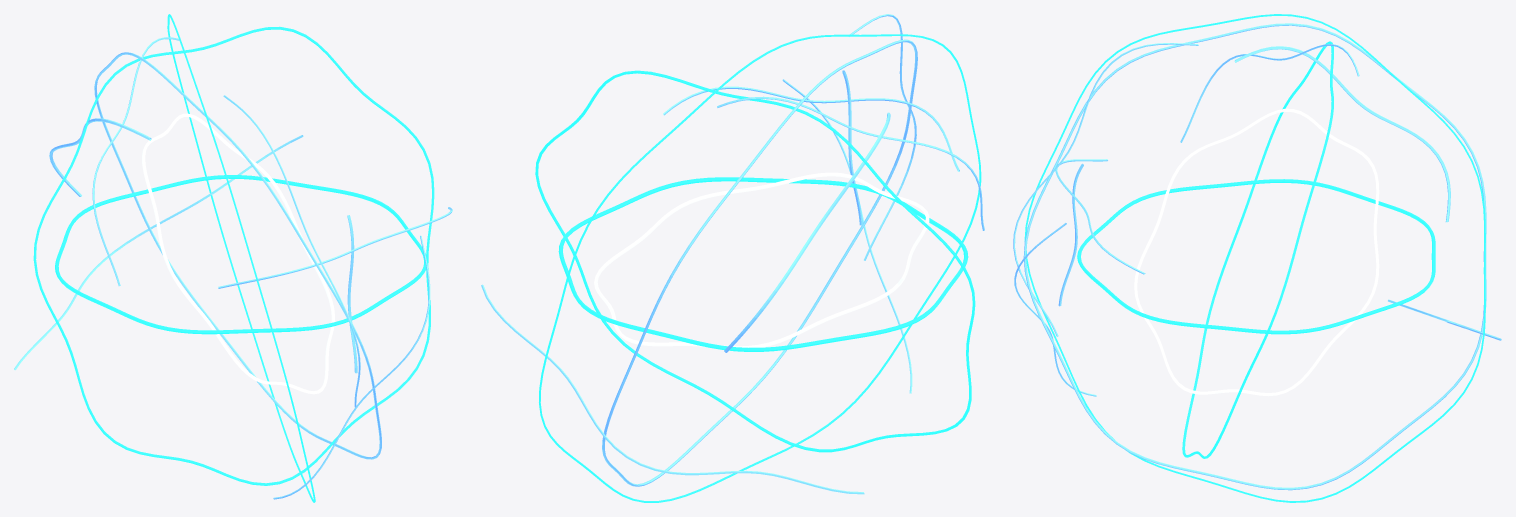
File: warp_bubble_ripple.glb
3 views of the same model, side by side, from view 1: azimuth 30°, elevation 25°; view 2: azimuth 150°, elevation 25°; view 3: azimuth 270°, elevation 25° (orthographic). The views are drawn at different scales.
Visible parts, largest first — view 1: warp_bubble_ripple; view 2: warp_bubble_ripple; view 3: warp_bubble_ripple.
Part boxes in pixels (x1,y1,x2,y2): warp_bubble_ripple: [14, 14, 452, 502]; warp_bubble_ripple: [481, 14, 984, 502]; warp_bubble_ripple: [1013, 14, 1501, 502].
Size of the model in its own units: 4.28 by 4.61 by 4.69.
